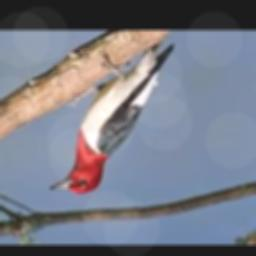Woodpecker: (50, 37, 175, 195)
